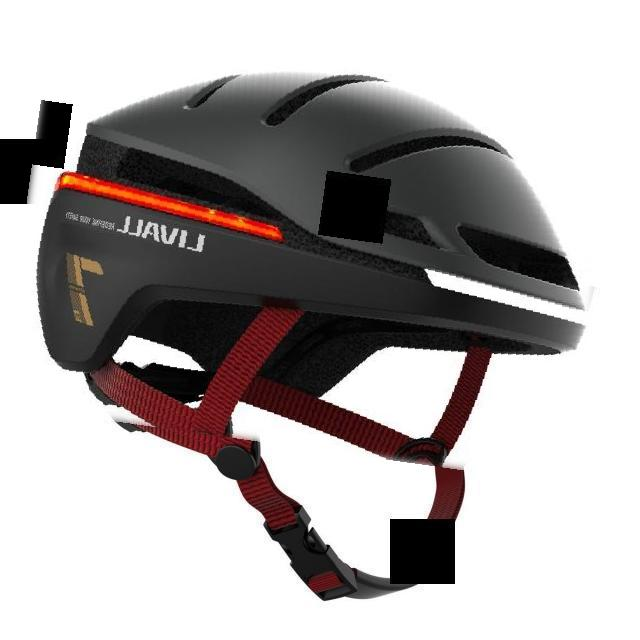helmet: (11, 16, 612, 466)
